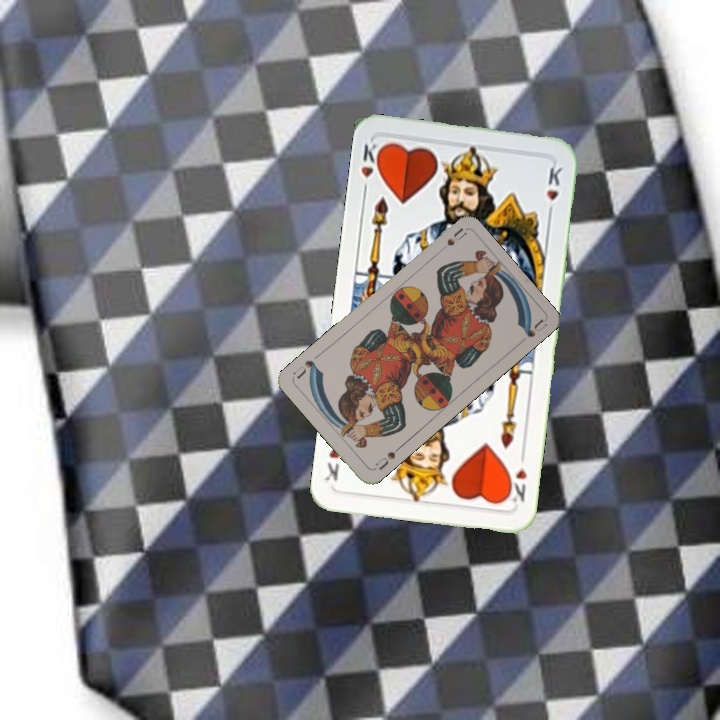HK: (356, 138, 386, 197), (502, 449, 530, 505)
SU: (370, 442, 404, 472), (443, 224, 469, 248)
